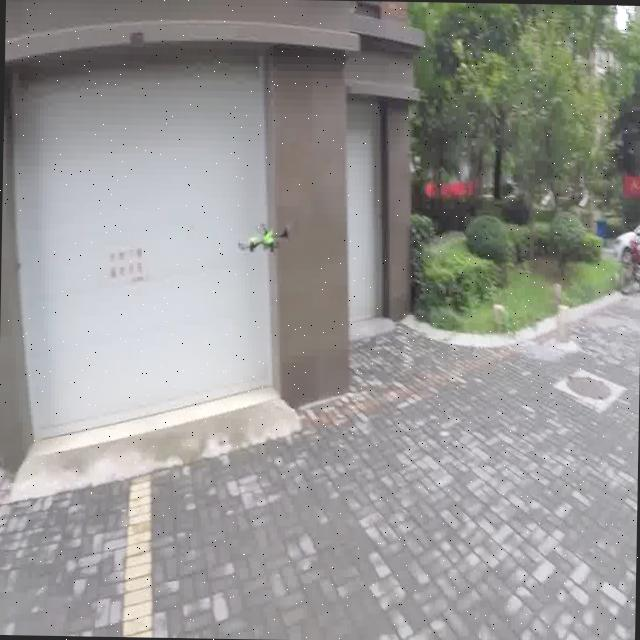drone: (234, 209, 295, 256)
